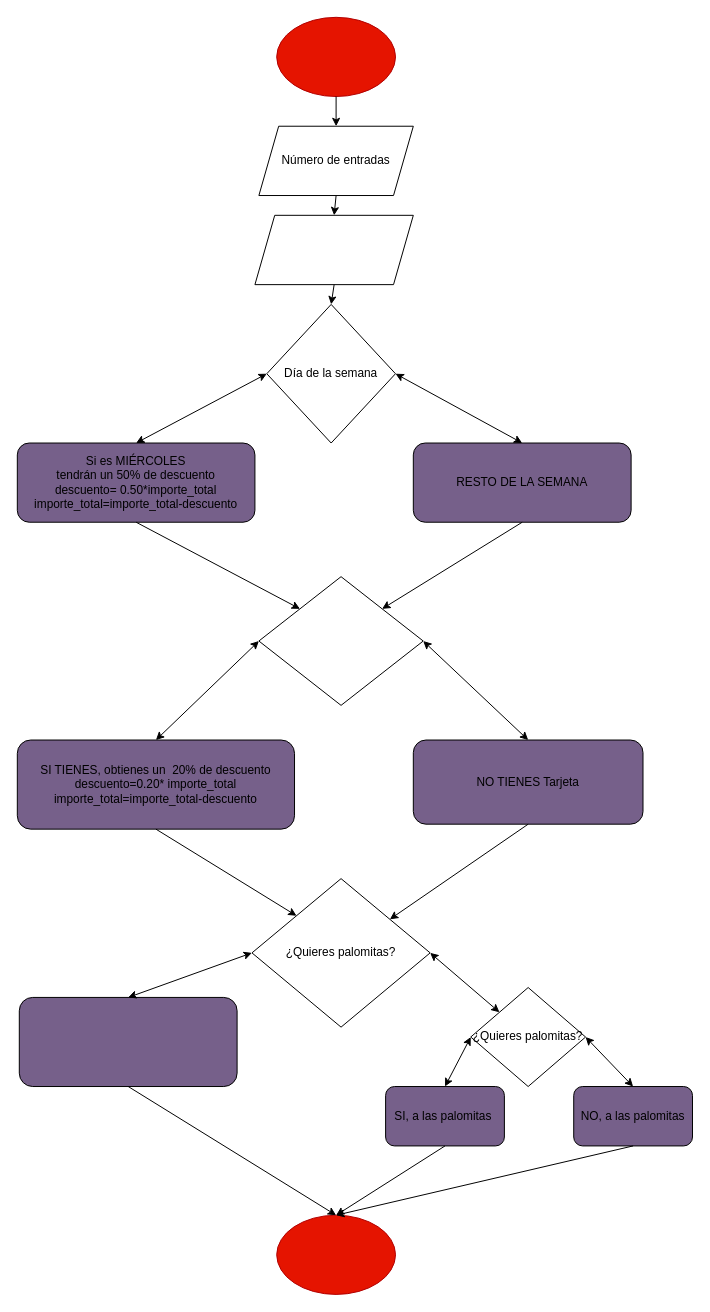
This 710x1312 diagram has some shape labels left out. The centre of each missing label's shape, as x and y in pixels:
Entradas cine: the point at 336,56
Precio 8€/persona importe_total: the point at 333,249
PRECIO FINAL: the point at 336,1254
Si tu compra es <30 de llevas un combo de palomitas gratis: the point at 127,1041
¿Tienes Tarjeta de Estudiante?: the point at 340,640
